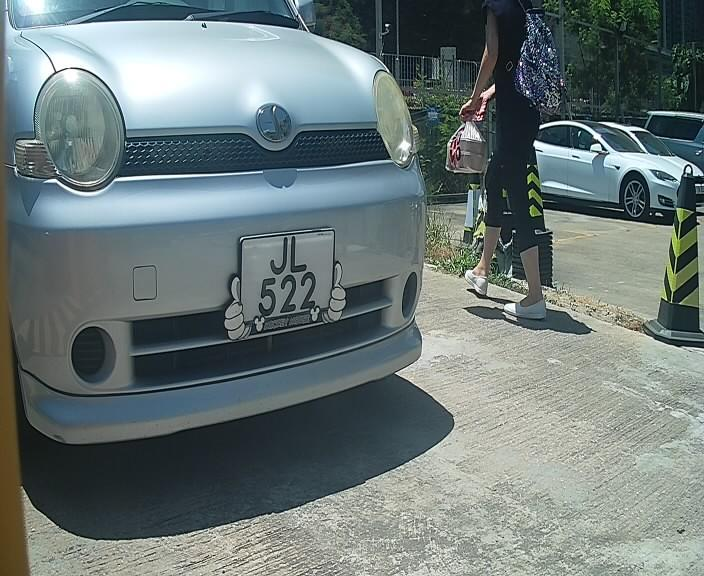privatecar: (13, 1, 441, 479)
